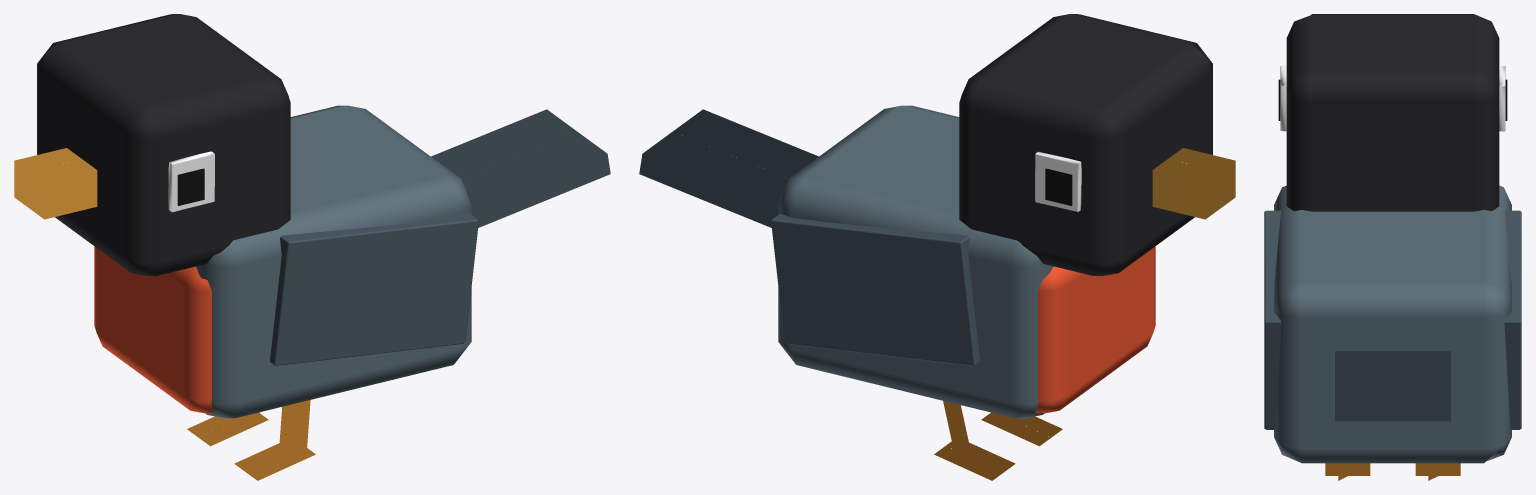
The model's file is robinJ_lod1.glb.
3 views of the same model, side by side, from view 1: azimuth 30°, elevation 25°; view 2: azimuth 150°, elevation 25°; view 3: azimuth 270°, elevation 25° (orthographic). The views are drawn at different scales.
Visible parts, largest first — view 1: bird_01_Cube.011; view 2: bird_01_Cube.011; view 3: bird_01_Cube.011.
Part boxes in pixels (box(x1,y1,x2,y2)): bird_01_Cube.011: box(14, 14, 610, 480); bird_01_Cube.011: box(639, 14, 1235, 480); bird_01_Cube.011: box(1264, 14, 1521, 480).
Bounding box in the file's own units: 279 × 199 × 119.
Materials: 1 (1 with a texture image).
